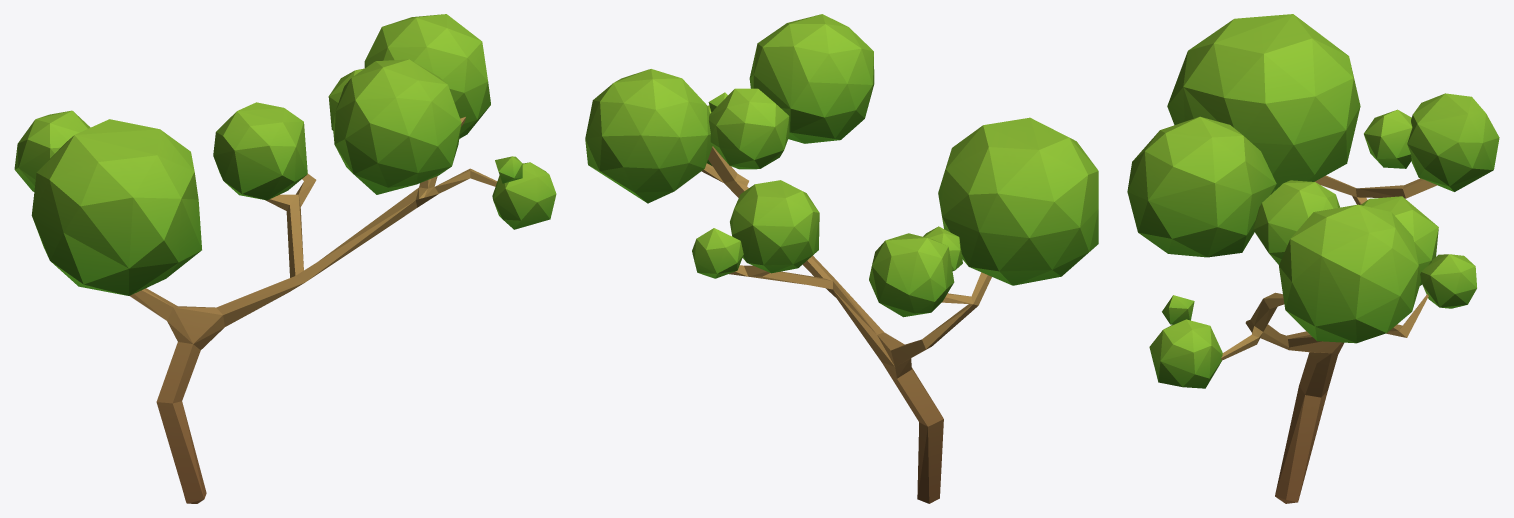
File: bonsai_lowpoly.gltf
3 views of the same model, side by side, from view 1: azimuth 30°, elevation 25°; view 2: azimuth 150°, elevation 25°; view 3: azimuth 270°, elevation 25° (orthographic). The views are drawn at different scales.
Parts seen in each view (by area): view 1: Bonsai.Tree.000; view 2: Bonsai.Tree.000; view 3: Bonsai.Tree.000.
Part boxes in pixels (x1,y1,x2,y2): Bonsai.Tree.000: (14,14,556,503); Bonsai.Tree.000: (585,14,1098,503); Bonsai.Tree.000: (1127,14,1499,503).
Size of the model in its own units: 8.16 by 6.98 by 5.07.
1 material, 1 textured.
